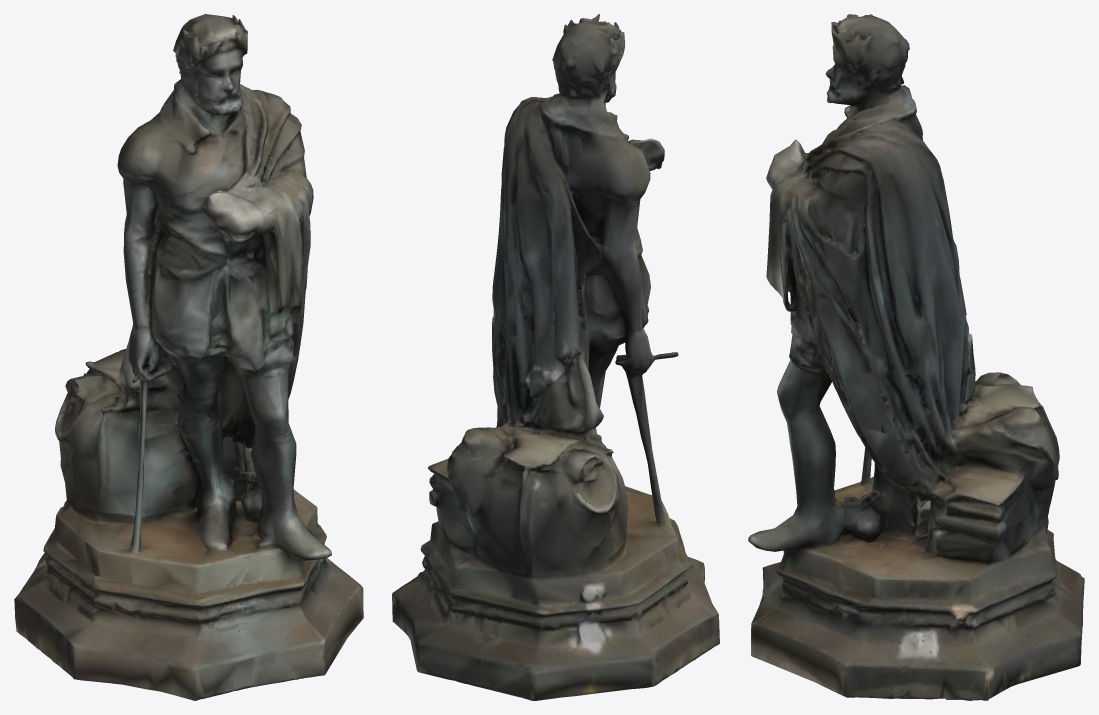
Rendered from camoes.glb.
The picture shows the model from 3 angles, left to right: view 1: azimuth 30°, elevation 25°; view 2: azimuth 150°, elevation 25°; view 3: azimuth 270°, elevation 25°; orthographic projection. The views are drawn at different scales.
Size of the model in its own units: 0.9586 by 2 by 0.9986.
Materials: 1 (1 with a texture image).
